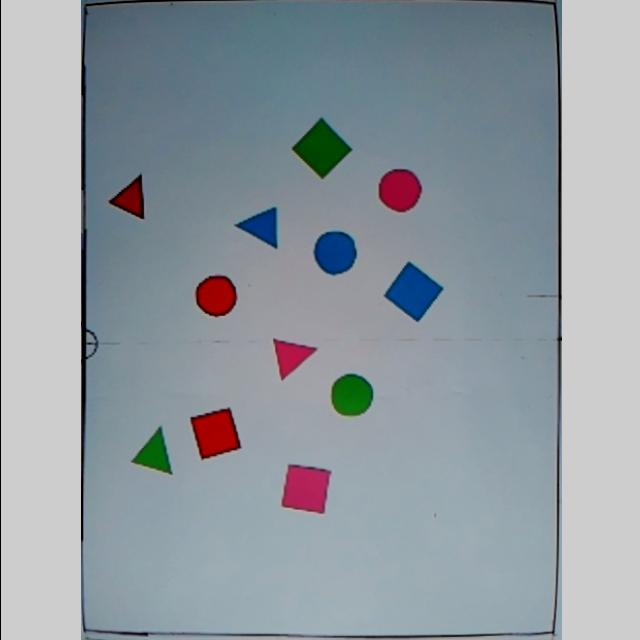blueCircle: (312, 228, 356, 276)
blueSquare: (380, 261, 442, 323)
blueTriangle: (232, 205, 278, 251)
greenCircle: (328, 372, 372, 418)
greenSquare: (287, 116, 351, 180)
greenTriangle: (128, 424, 176, 478)
pinkCircle: (376, 168, 420, 215)
pinkSquare: (278, 462, 330, 516)
pinkTriangle: (270, 336, 316, 382)
redCircle: (192, 274, 238, 320)
redSquare: (186, 404, 242, 462)
redTriangle: (104, 172, 146, 222)
